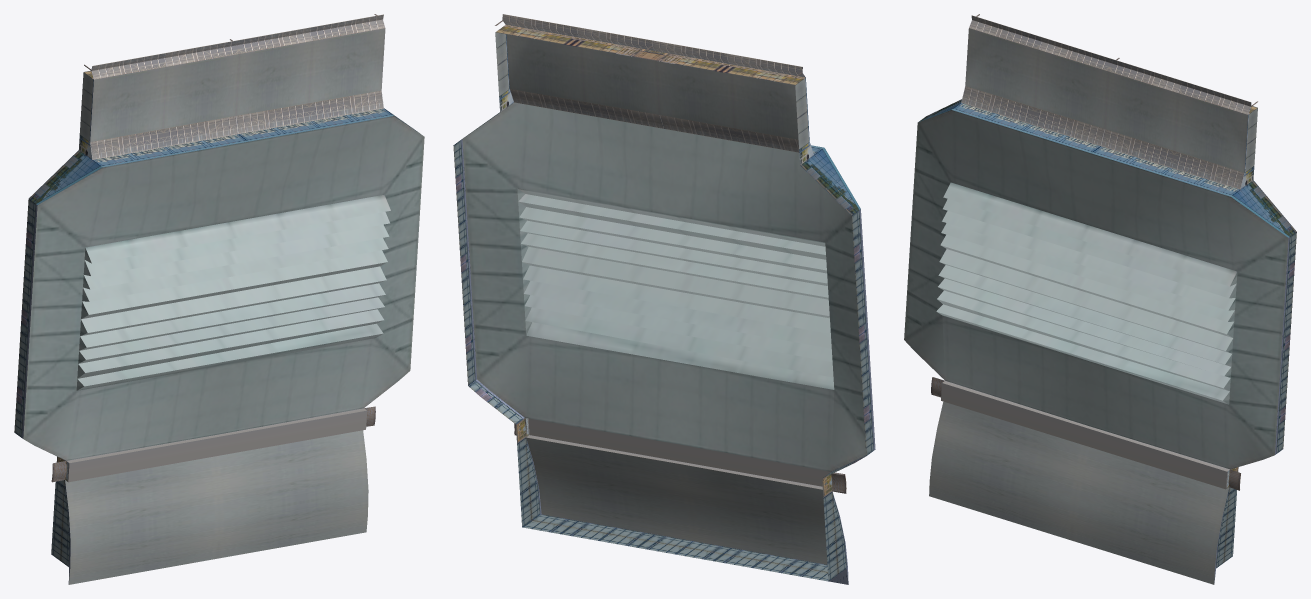
Rendered from DEU_598_KARLSRUHE_EUROPAH_S.OBJ.
3 renders of one model, left to right at view 1: azimuth 30°, elevation 25°; view 2: azimuth 150°, elevation 25°; view 3: azimuth 330°, elevation 25°, orthographic. The views are drawn at different scales.
Visible parts, largest first — view 1: DEU_598_KARLSRUHE_EUROPAH_S; view 2: DEU_598_KARLSRUHE_EUROPAH_S; view 3: DEU_598_KARLSRUHE_EUROPAH_S.
Boxes of the visible parts, box(x1,y1,x2,y2) form: DEU_598_KARLSRUHE_EUROPAH_S: box(14, 14, 424, 584); DEU_598_KARLSRUHE_EUROPAH_S: box(453, 14, 875, 584); DEU_598_KARLSRUHE_EUROPAH_S: box(904, 14, 1296, 584).
Bounding box in the file's own units: 93.86 × 117 × 9.67.
Materials: 1 (1 with a texture image).
